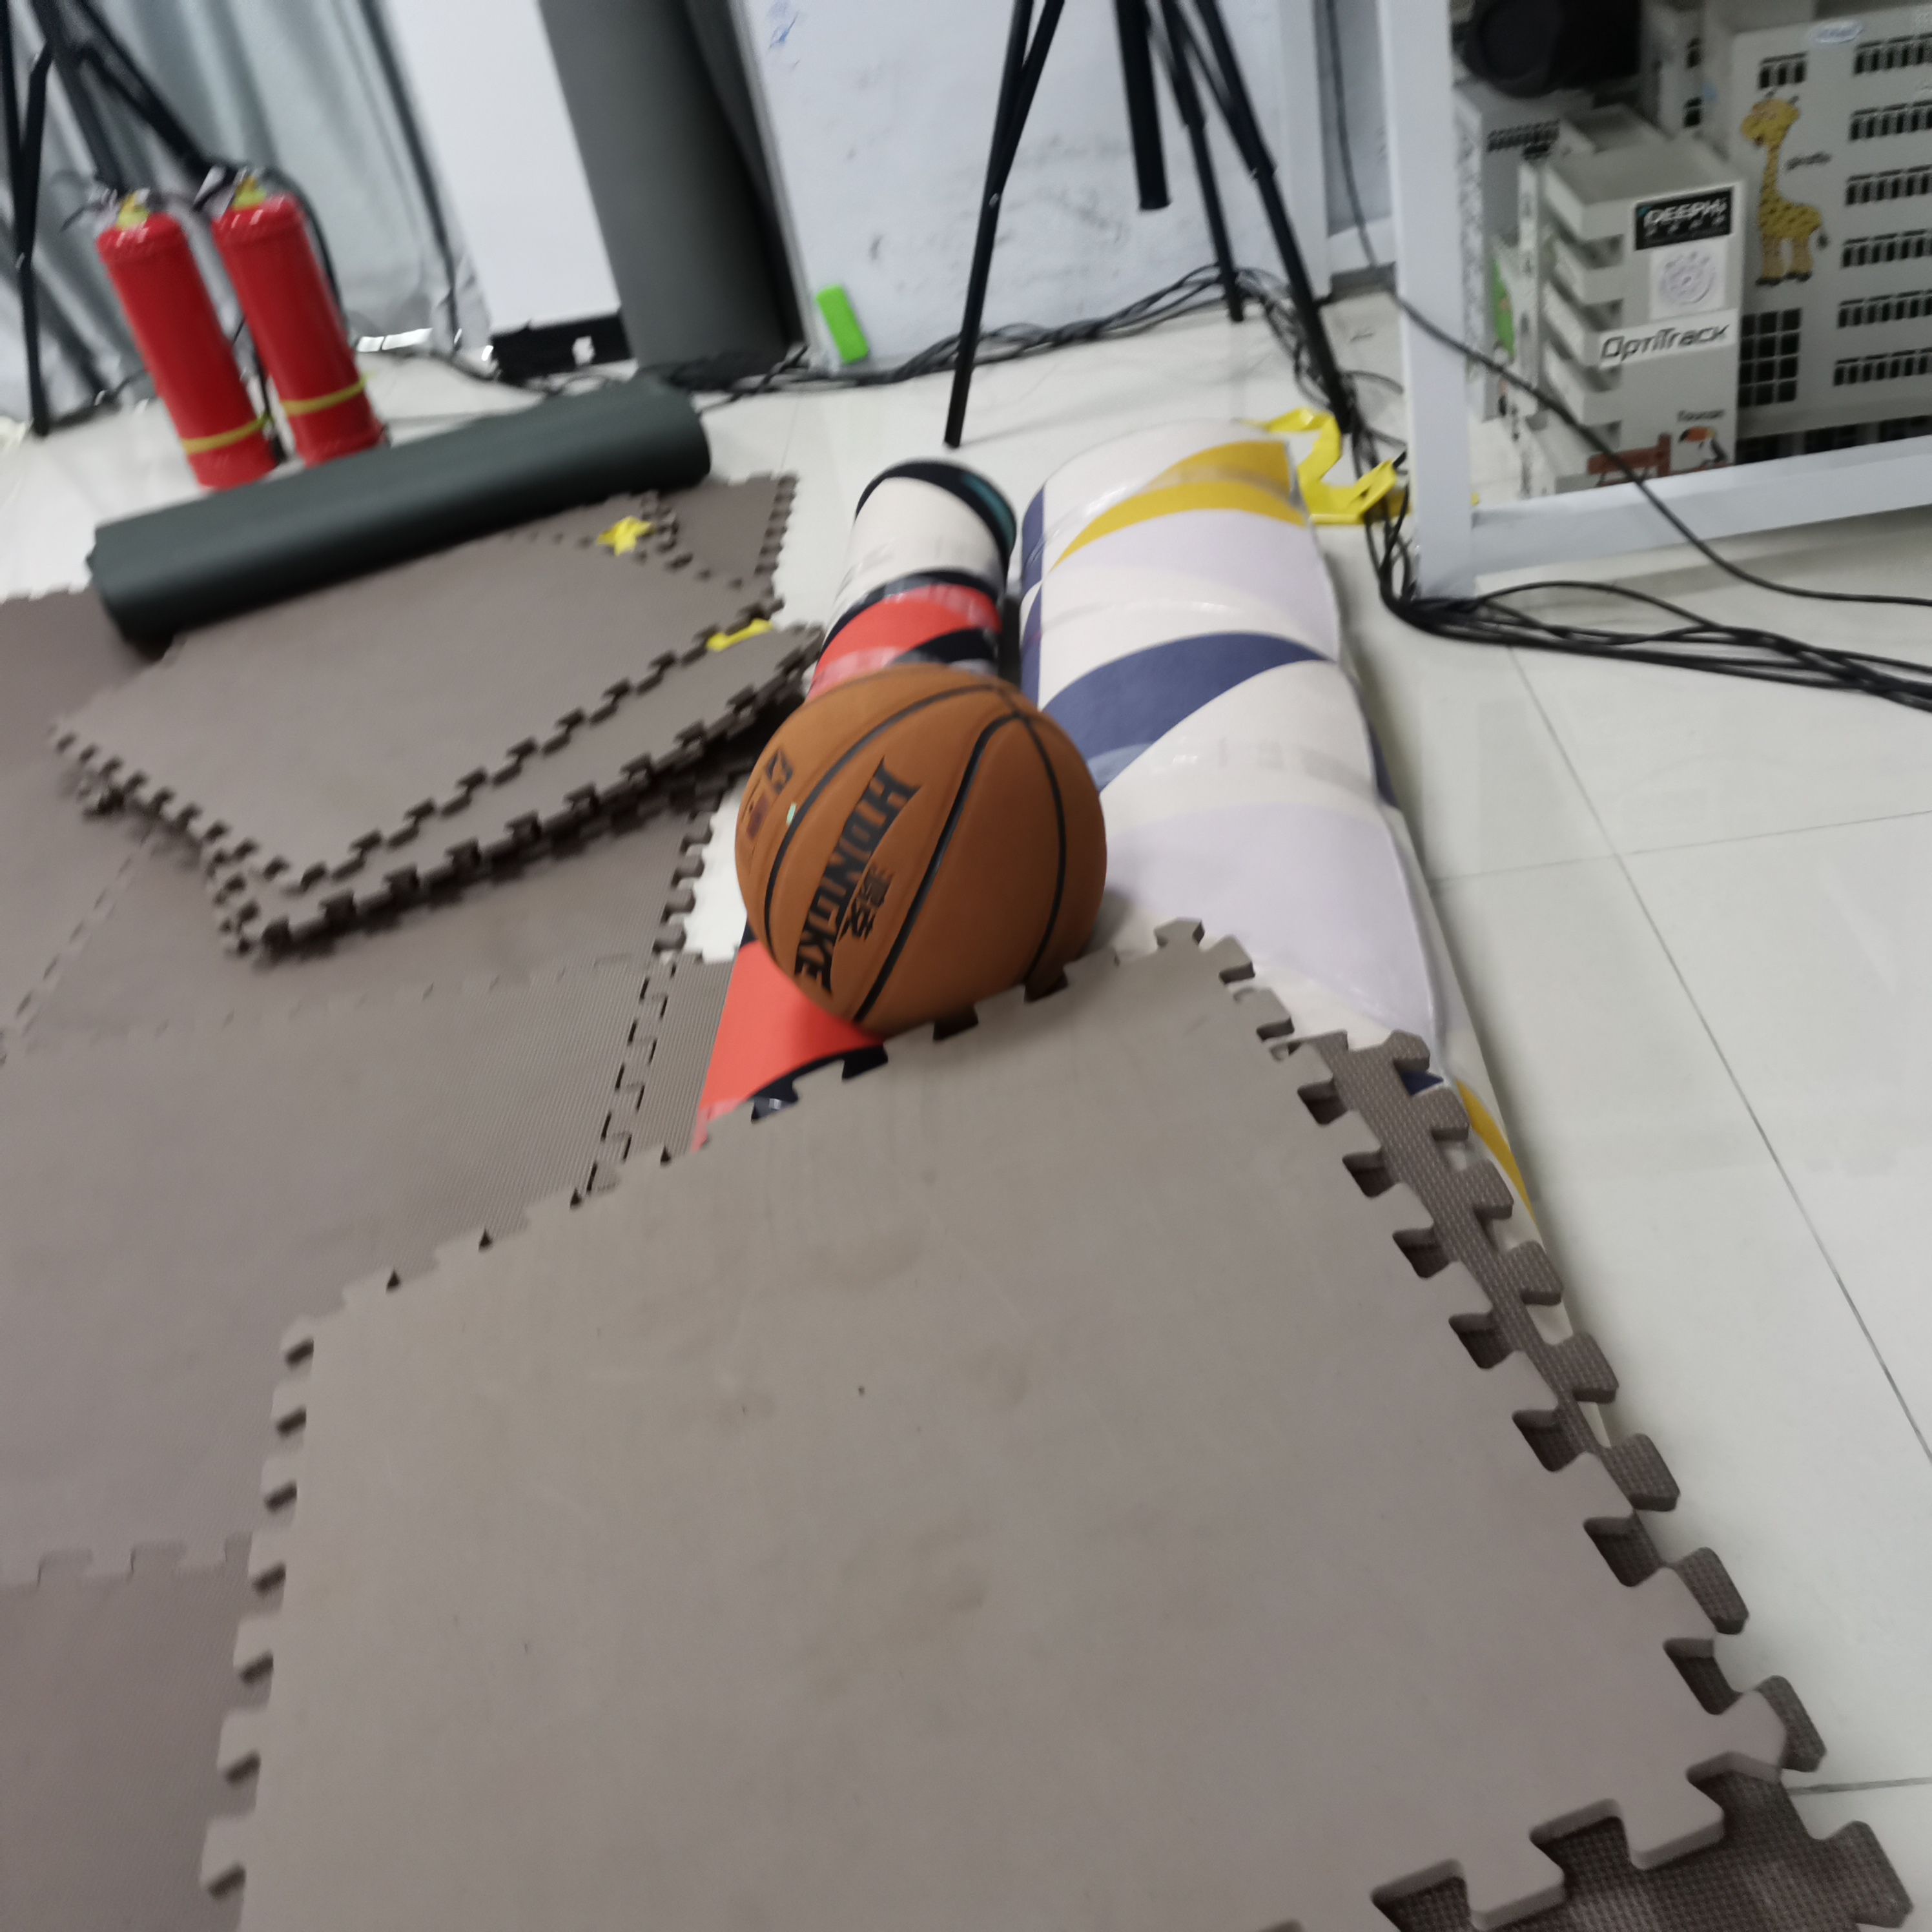basketball: (736, 663, 1109, 1030)
